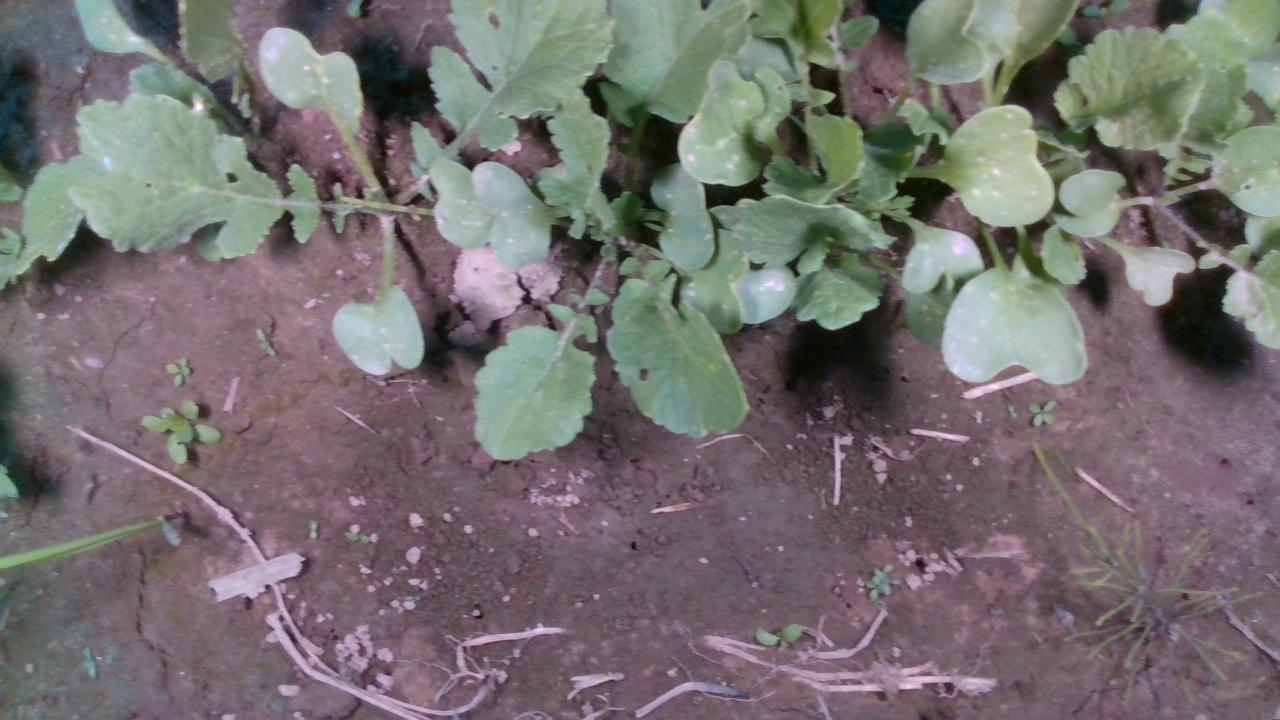weed: (159, 354, 192, 387), (1024, 397, 1060, 427), (251, 327, 278, 359)
